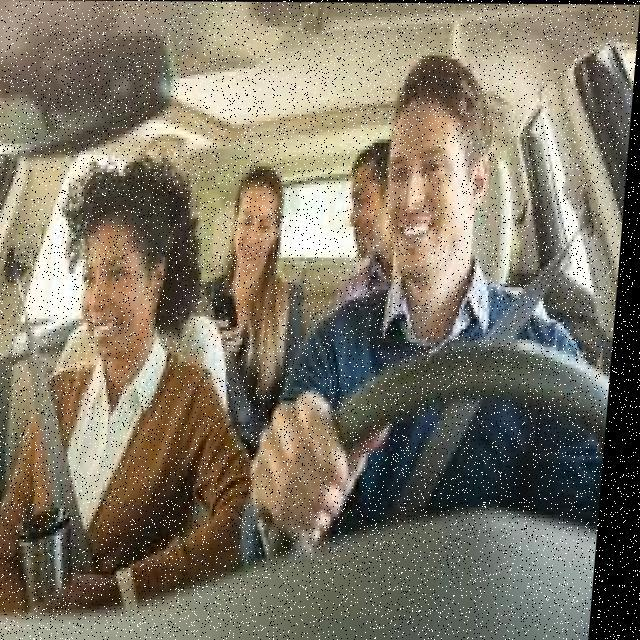seatbelt: (360, 258, 619, 532), (8, 351, 173, 603)
